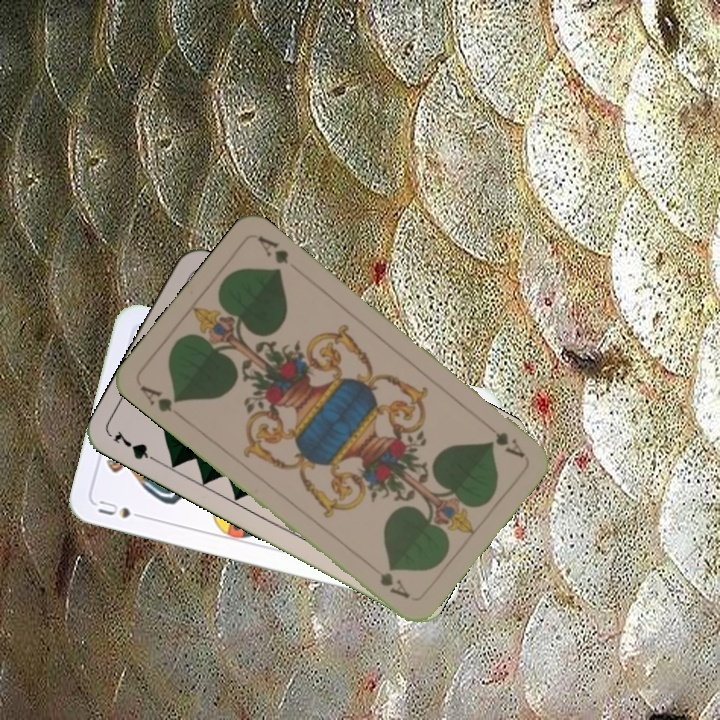G7: (108, 427, 163, 466)
GA: (478, 417, 528, 461), (135, 381, 186, 422)
SU: (94, 496, 151, 523)
